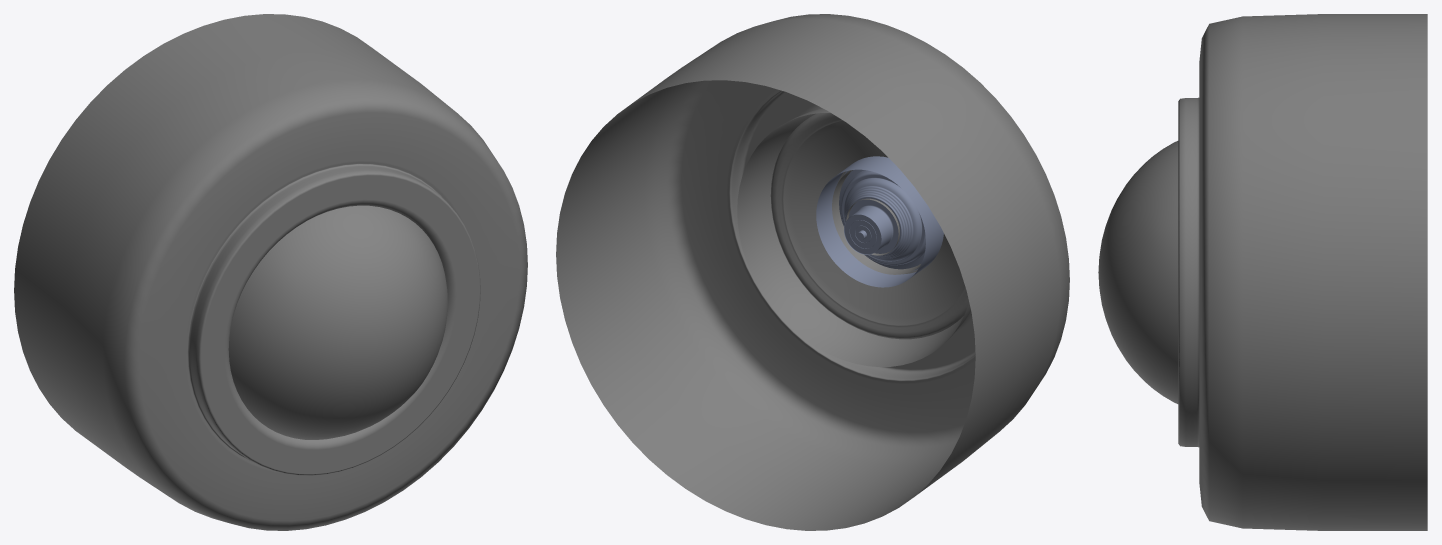
Rendered from alicEYE.fbx.
The picture shows the model from 3 angles, left to right: view 1: azimuth 30°, elevation 25°; view 2: azimuth 150°, elevation 25°; view 3: azimuth 270°, elevation 25°; orthographic projection. The views are drawn at different scales.
Visible parts, largest first — view 1: Cylinder054, Box158; view 2: Cylinder054, Box158, Cylinder056, Box160; view 3: Cylinder054, Box158.
Part boxes in pixels (x1,y1,x2,y2): Cylinder054: (14, 14, 527, 530); Box158: (228, 205, 447, 439); Cylinder054: (556, 14, 1069, 530); Box158: (737, 108, 970, 366); Cylinder056: (816, 156, 943, 287); Box160: (832, 170, 920, 274); Cylinder054: (1178, 14, 1427, 530); Box158: (1098, 141, 1178, 403).
Bounding box in the file's own units: 57.54 × 57.54 × 36.59.
